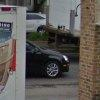Car: (28, 31, 72, 88)
